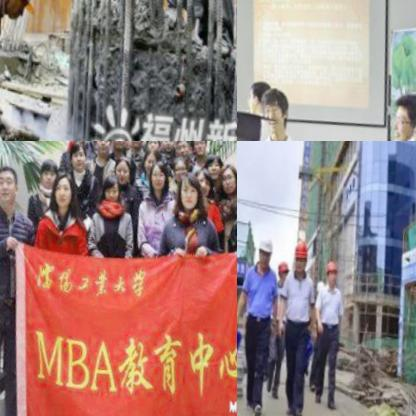head: (249, 84, 288, 141), (379, 89, 416, 141), (237, 74, 266, 122), (43, 168, 72, 213), (171, 172, 200, 213), (237, 101, 264, 141), (183, 166, 210, 203), (32, 157, 58, 195), (92, 169, 118, 205), (0, 161, 18, 211), (196, 149, 223, 182), (105, 154, 131, 186), (141, 158, 164, 193), (60, 142, 85, 173), (213, 161, 236, 194), (164, 154, 187, 185), (136, 148, 157, 175), (170, 141, 190, 160), (86, 141, 109, 155), (186, 141, 205, 156), (137, 141, 158, 154), (103, 141, 125, 150), (155, 141, 173, 152), (123, 141, 140, 150), (65, 141, 84, 146), (118, 141, 130, 148)
helmet: (249, 236, 272, 275), (0, 0, 37, 24), (286, 241, 307, 282), (315, 259, 336, 291), (270, 258, 288, 289)
